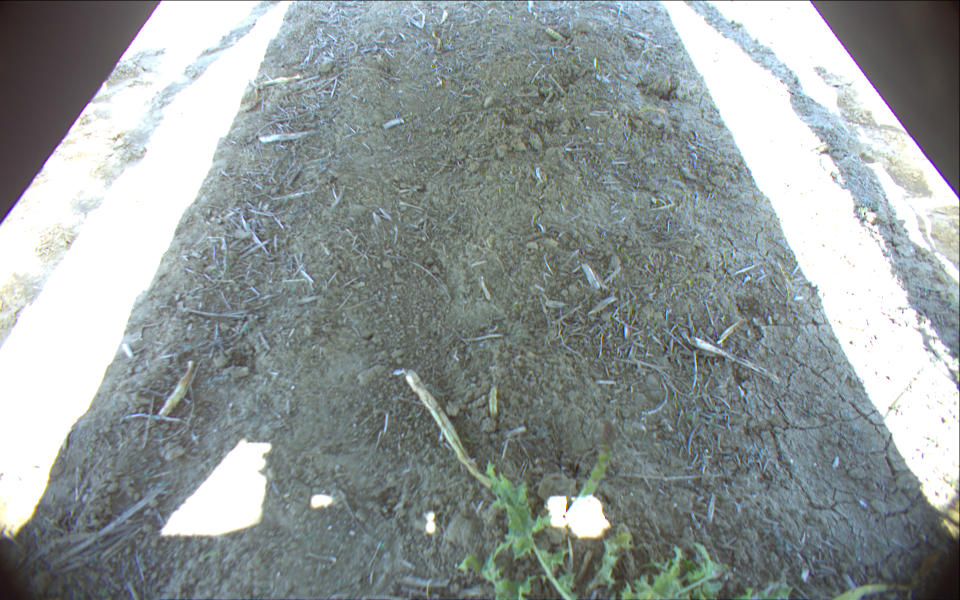aspa: (401, 370, 499, 500), (558, 420, 618, 534), (544, 27, 569, 45), (489, 384, 499, 421)
